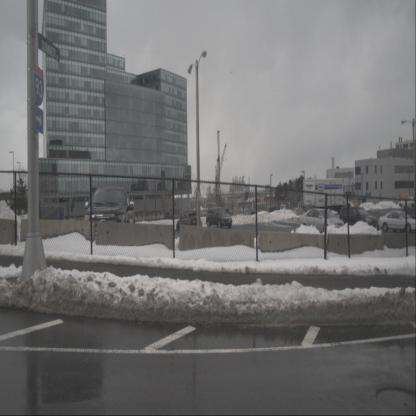vehicle-car: (298, 208, 345, 236), (339, 206, 380, 233), (379, 211, 415, 235), (206, 206, 232, 228), (176, 211, 201, 232), (398, 196, 416, 208)
vehicle-truck: (84, 186, 135, 249), (304, 178, 352, 216)
